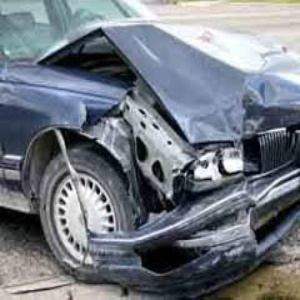bumper: (63, 221, 152, 284)
